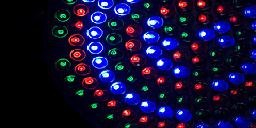LED: (51, 5, 251, 128)
